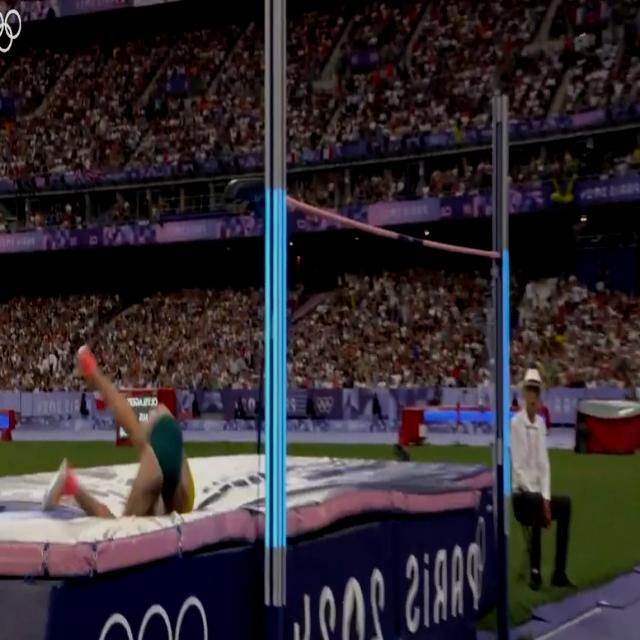land: (42, 348, 196, 515)
